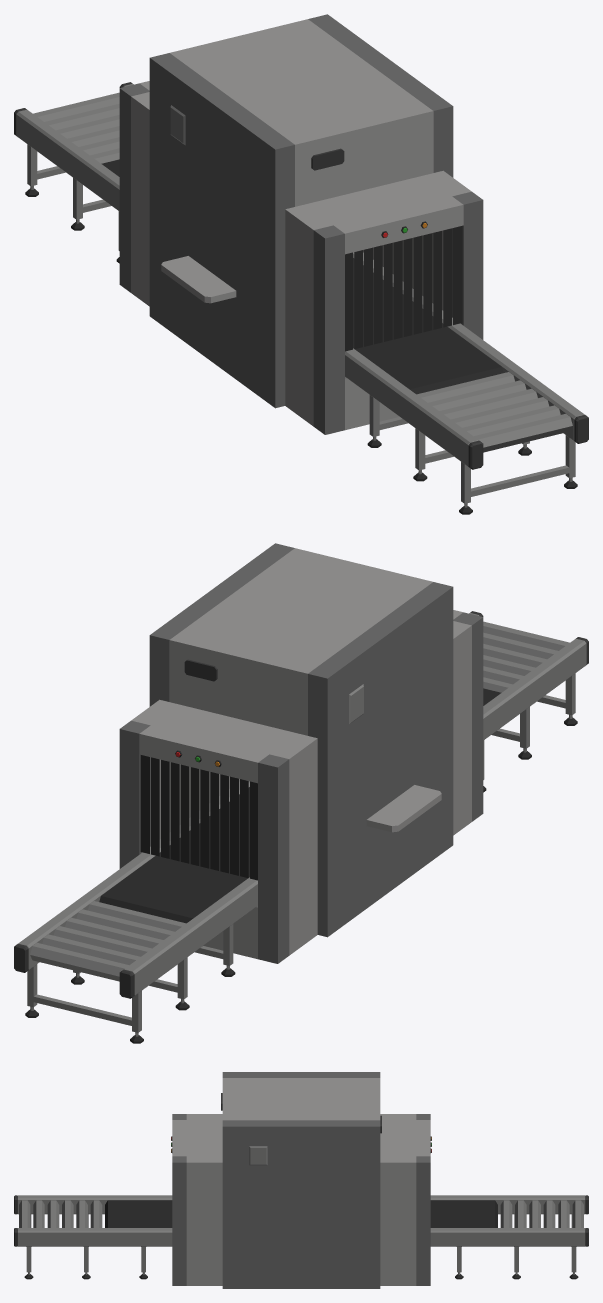
Rendered from SM_Bldg_City_Airport_SecurityCheck_Luggage.fbx.
The picture shows the model from 3 angles, top to bottom: view 1: azimuth 30°, elevation 25°; view 2: azimuth 150°, elevation 25°; view 3: azimuth 270°, elevation 25°; orthographic projection. The views are drawn at different scales.
Visible parts, largest first — view 1: SM_Bldg_City_Airport_SecurityCheck_Luggage; view 2: SM_Bldg_City_Airport_SecurityCheck_Luggage; view 3: SM_Bldg_City_Airport_SecurityCheck_Luggage.
Part boxes in pixels (x1=…): SM_Bldg_City_Airport_SecurityCheck_Luggage: x1=14, y1=14, x2=588, y2=514; SM_Bldg_City_Airport_SecurityCheck_Luggage: x1=14, y1=543, x2=588, y2=1043; SM_Bldg_City_Airport_SecurityCheck_Luggage: x1=14, y1=1072, x2=588, y2=1288.
Size of the model in its own units: 211 by 250 by 802.
